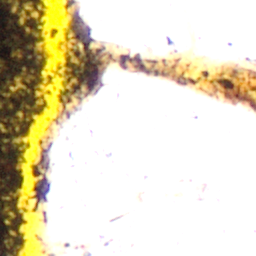cement_matrix: (0, 0, 43, 255), (63, 20, 101, 99), (35, 166, 45, 197), (221, 79, 236, 93)
cracks: (18, 0, 255, 255), (62, 19, 102, 100), (34, 165, 46, 198), (220, 78, 237, 94)
gravel_crushed_stones: (41, 64, 255, 255), (75, 0, 255, 68)
